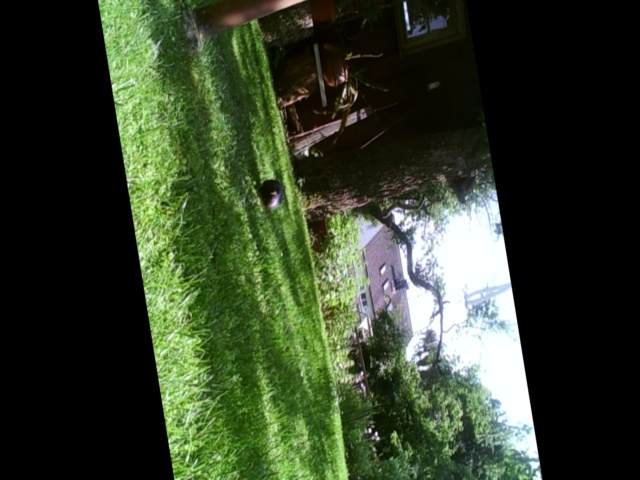Pigeon: (256, 178, 287, 215)
